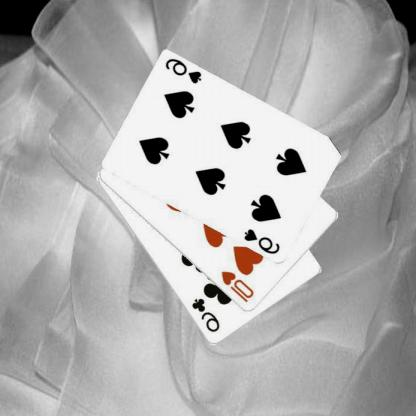10H: (220, 268, 257, 304)
6S: (164, 56, 205, 86), (243, 227, 283, 256)
9C: (191, 295, 223, 334)
